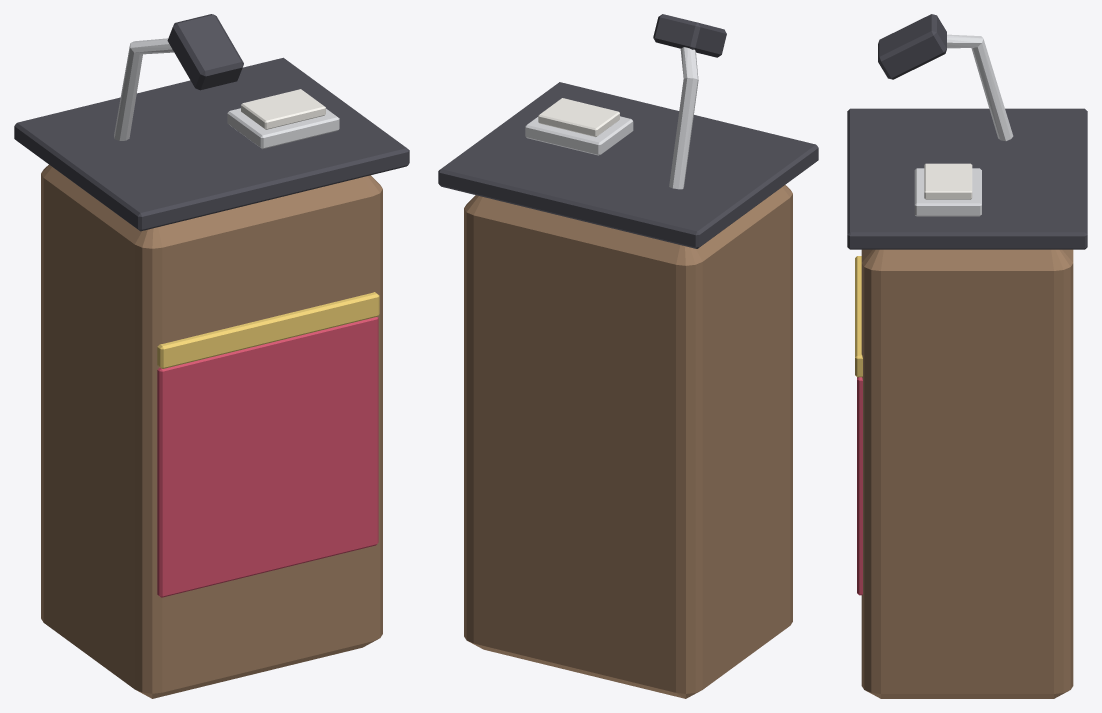
Rendered from cinema-multiplex-and-foyer-ticket-tear-podium-99e52a6d__34687.glb.
3 views of the same model, side by side, from view 1: azimuth 30°, elevation 25°; view 2: azimuth 150°, elevation 25°; view 3: azimuth 270°, elevation 25° (orthographic). The views are drawn at different scales.
Parts seen in each view (by area): view 1: ticket-tear-podium; view 2: ticket-tear-podium; view 3: ticket-tear-podium.
Part boxes in pixels (bbox=[...]): ticket-tear-podium: bbox=[14, 14, 409, 698]; ticket-tear-podium: bbox=[438, 14, 818, 698]; ticket-tear-podium: bbox=[847, 14, 1087, 698].
Size of the model in its own units: 0.62 by 1.4 by 0.5.
